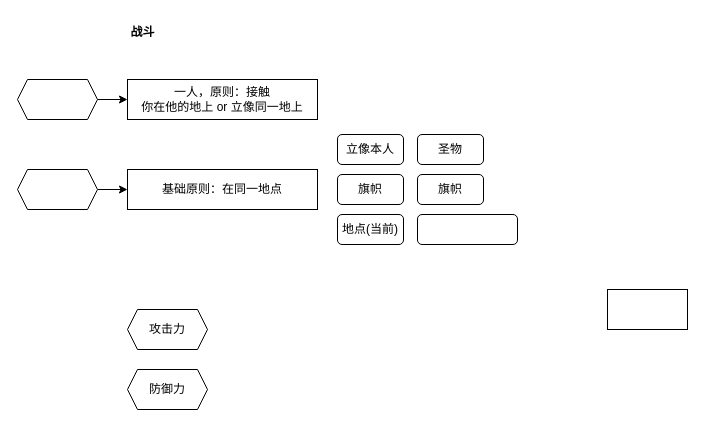
Image size: 705x427. Some labels were removed from this diagram. Each missing label, with the centre of its shape:
宣战玩家: the point at 57,99
宣战目标: the point at 57,189
特殊：任何远程地: the point at 467,229
选择目标: the point at 647,309
